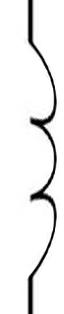inductor: (5, 16, 60, 286)
